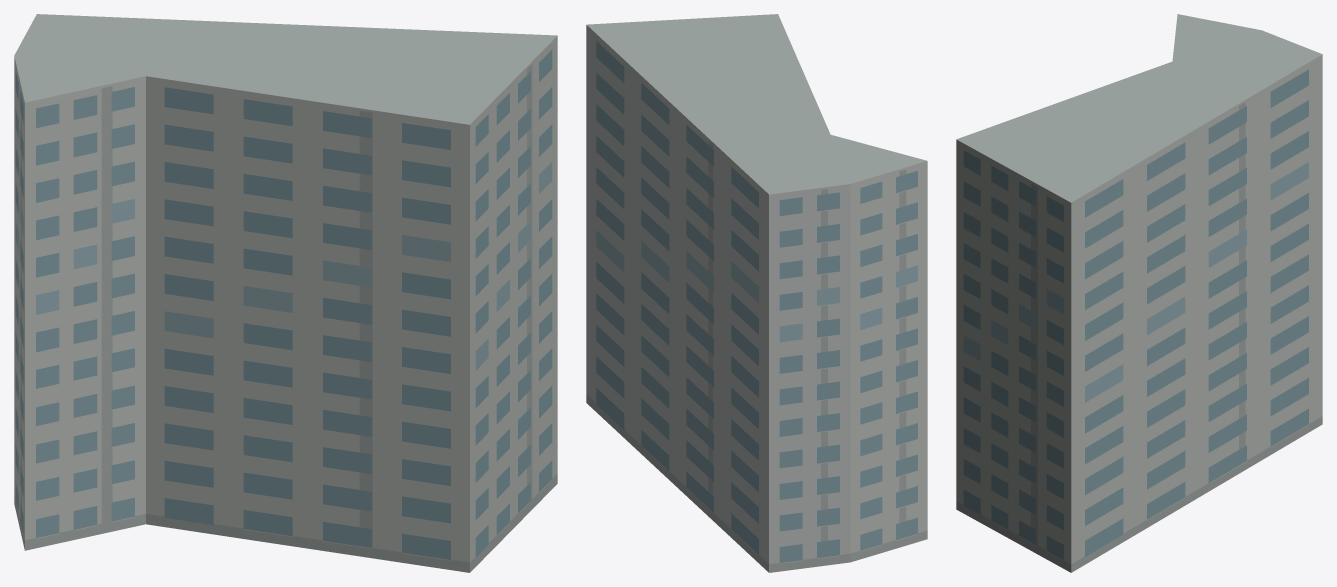
Rendered from residential-a59ce18c-a148-4416-a0f0-20a232db2148.glb.
The picture shows the model from 3 angles, left to right: view 1: azimuth 30°, elevation 25°; view 2: azimuth 150°, elevation 25°; view 3: azimuth 270°, elevation 25°; orthographic projection. The views are drawn at different scales.
Parts seen in each view (by area): view 1: residential-a59ce18c-a148-4416-a0f0-20a232db2148.tmp; view 2: residential-a59ce18c-a148-4416-a0f0-20a232db2148.tmp; view 3: residential-a59ce18c-a148-4416-a0f0-20a232db2148.tmp.
Part boxes in pixels (x1,y1,x2,y2): residential-a59ce18c-a148-4416-a0f0-20a232db2148.tmp: [14, 14, 557, 572]; residential-a59ce18c-a148-4416-a0f0-20a232db2148.tmp: [586, 14, 927, 572]; residential-a59ce18c-a148-4416-a0f0-20a232db2148.tmp: [956, 14, 1322, 572].
Bounding box in the file's own units: 45.96 × 42 × 37.69.
